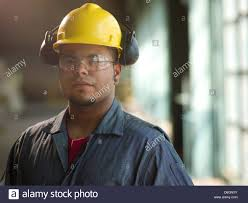Person_wearing_helmet: (47, 3, 127, 69), (47, 11, 126, 69)
